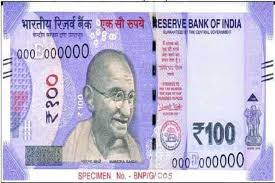hundred: (16, 32, 249, 153)
